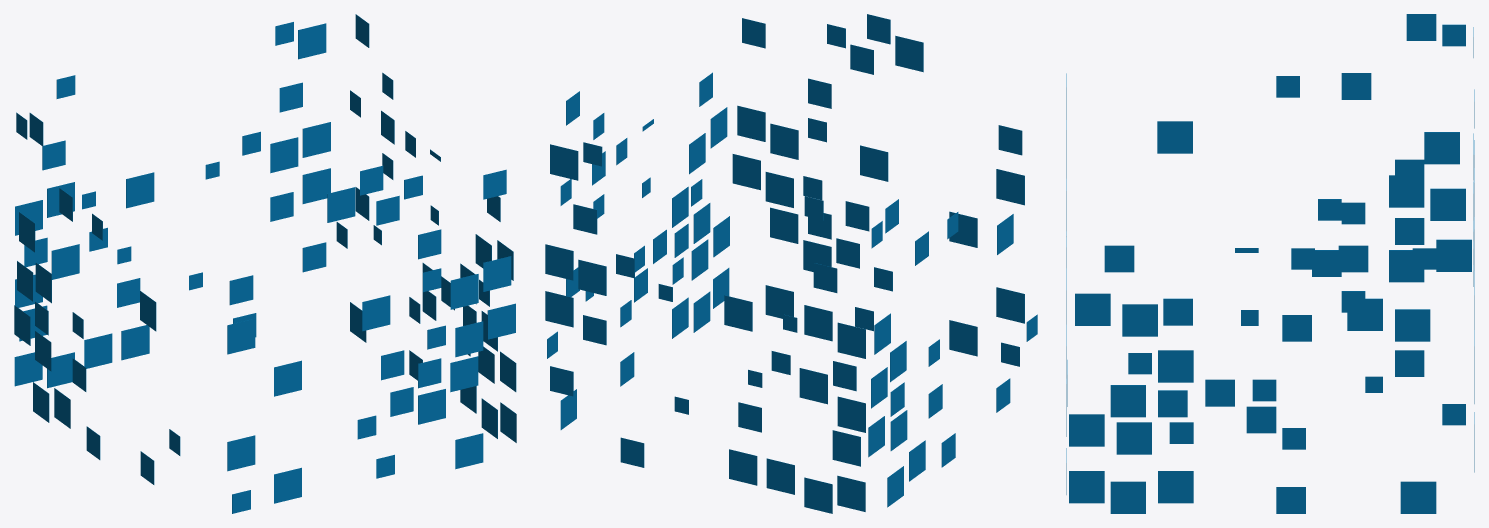
File: Zoll_Atruimholes_zonesupdaes_Level_1_IfcPlate_part1.dae
The picture shows the model from 3 angles, left to right: view 1: azimuth 30°, elevation 25°; view 2: azimuth 150°, elevation 25°; view 3: azimuth 270°, elevation 25°; orthographic projection. The views are drawn at different scales.
Parts seen in each view (by area): view 1: no part large enough to name; view 2: no part large enough to name; view 3: 2cW1ZNbTH7he$WurXRvAjz, 2cW1ZNbTH7he$WurXRvAth, 2cW1ZNbTH7he$WurXRvAtW, 2cW1ZNbTH7he$WurXRvAt2, 2cW1ZNbTH7he$WurXRvAti, 2cW1ZNbTH7he$WurXRvAqM, 2cW1ZNbTH7he$WurXRvAtB, 2cW1ZNbTH7he$WurXRvAs_, 2cW1ZNbTH7he$WurXRvAt1, 2cW1ZNbTH7he$WurXRvAtk, 2cW1ZNbTH7he$WurXRvAil, 2cW1ZNbTH7he$WurXRvAqG (+34 smaller).
Boxes of the visible parts, x1,y1,x2,y2 form: 2cW1ZNbTH7he$WurXRvAjz: (1400, 481, 1436, 497); 2cW1ZNbTH7he$WurXRvAth: (1400, 497, 1436, 513); 2cW1ZNbTH7he$WurXRvAtW: (1158, 366, 1193, 382); 2cW1ZNbTH7he$WurXRvAt2: (1389, 191, 1424, 207); 2cW1ZNbTH7he$WurXRvAti: (1158, 487, 1193, 503); 2cW1ZNbTH7he$WurXRvAqM: (1424, 148, 1459, 164); 2cW1ZNbTH7he$WurXRvAtB: (1116, 438, 1151, 454); 2cW1ZNbTH7he$WurXRvAs_: (1347, 314, 1382, 330); 2cW1ZNbTH7he$WurXRvAt1: (1395, 325, 1430, 341); 2cW1ZNbTH7he$WurXRvAtk: (1069, 487, 1104, 503); 2cW1ZNbTH7he$WurXRvAil: (1157, 121, 1192, 137); 2cW1ZNbTH7he$WurXRvAqG: (1157, 137, 1192, 153).
Size of the model in its own units: 34.49 by 34.49 by 33.
